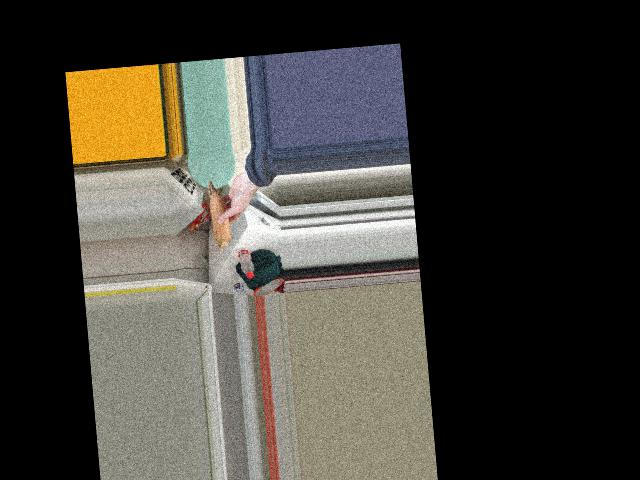sweet_potato: (202, 178, 236, 252)
